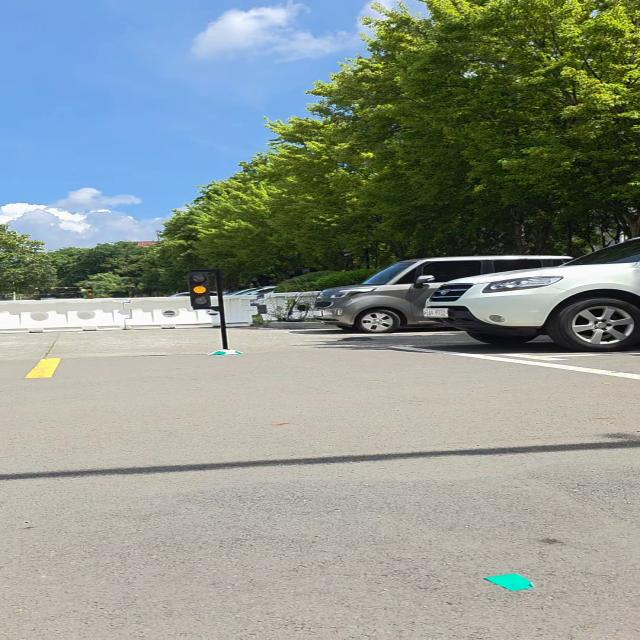yellow: (188, 272, 212, 307)
